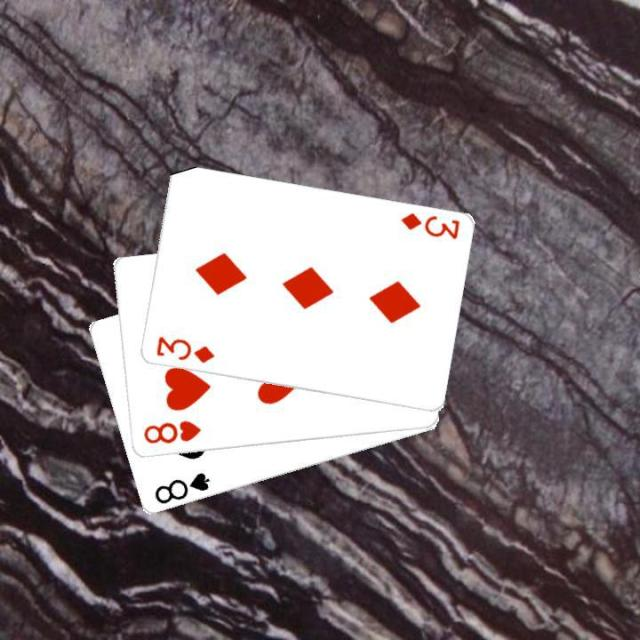3D: (151, 332, 216, 366), (396, 209, 462, 242)
8H: (140, 417, 202, 446)
8S: (150, 468, 212, 506)
